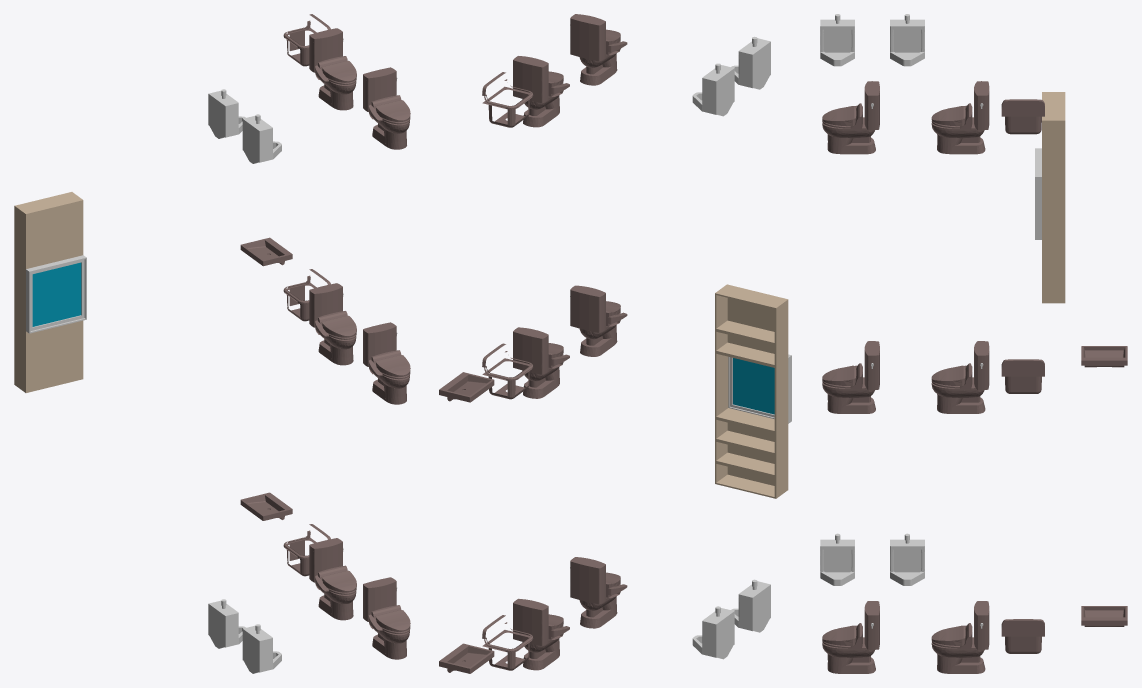
The picture shows the model from 3 angles, left to right: view 1: azimuth 30°, elevation 25°; view 2: azimuth 150°, elevation 25°; view 3: azimuth 270°, elevation 25°; orthographic projection. The views are drawn at different scales.
Bounding box in the file's own units: 4.37 × 8.33 × 3.97.
